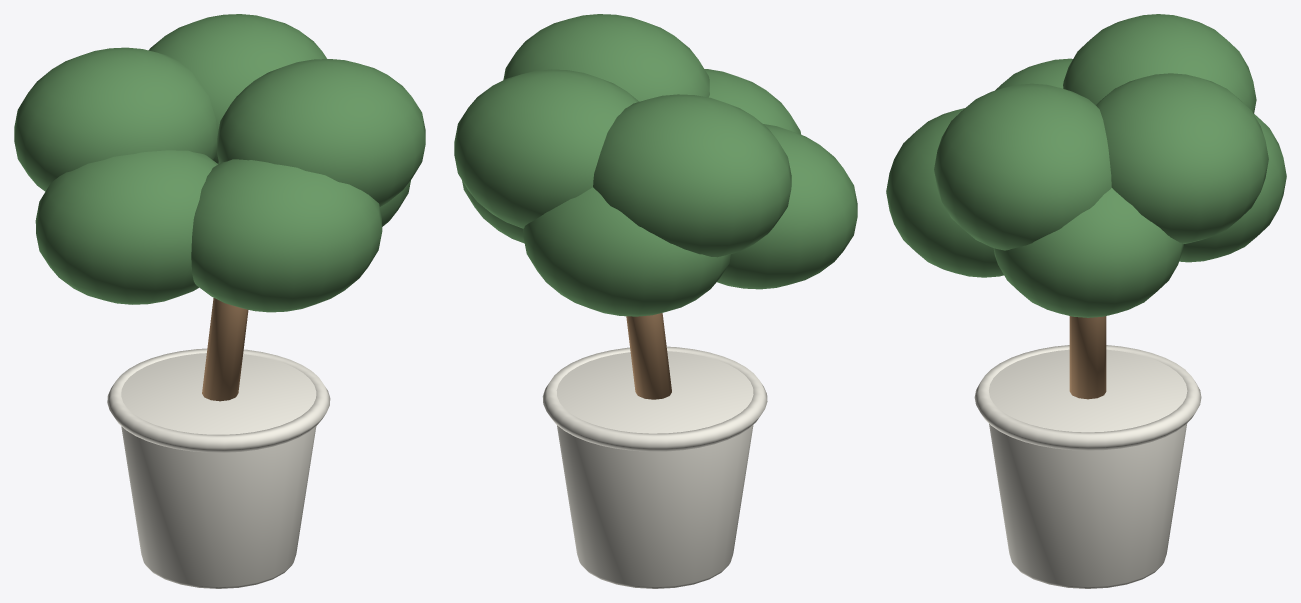
Rendered from atelier-garden-shrub.glb.
The picture shows the model from 3 angles, left to right: view 1: azimuth 30°, elevation 25°; view 2: azimuth 150°, elevation 25°; view 3: azimuth 270°, elevation 25°; orthographic projection.
Parts seen in each view (by area): view 1: leaf.022, ceramic.060, legs.139; view 2: leaf.022, ceramic.060, legs.139; view 3: leaf.022, ceramic.060, legs.139.
Boxes of the visible parts, x1,y1,x2,y2 form: leaf.022: (14, 14, 425, 312); ceramic.060: (107, 348, 330, 588); legs.139: (202, 298, 248, 401); leaf.022: (454, 14, 857, 316); ceramic.060: (542, 346, 767, 588); legs.139: (626, 313, 671, 399); leaf.022: (886, 14, 1286, 317); ceramic.060: (974, 345, 1201, 588); legs.139: (1069, 316, 1106, 399).
Size of the model in its own units: 0.6974 by 0.895 by 0.6535.
